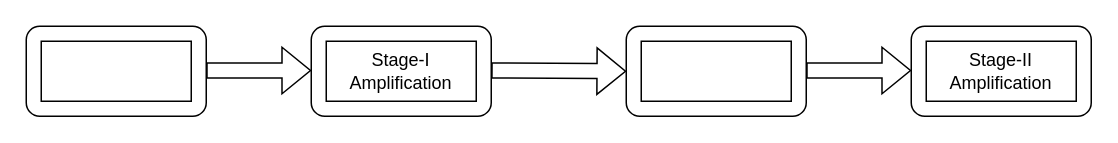
Image size: 1118x143. Some labels were removed from this diagram. Here are the shapes that lost their labels. From the top down, the box of each, then its label:
(40, 40, 191, 101): Second Order Bandpass Filter
(640, 40, 791, 101): Voltage-Shifter Circuit
